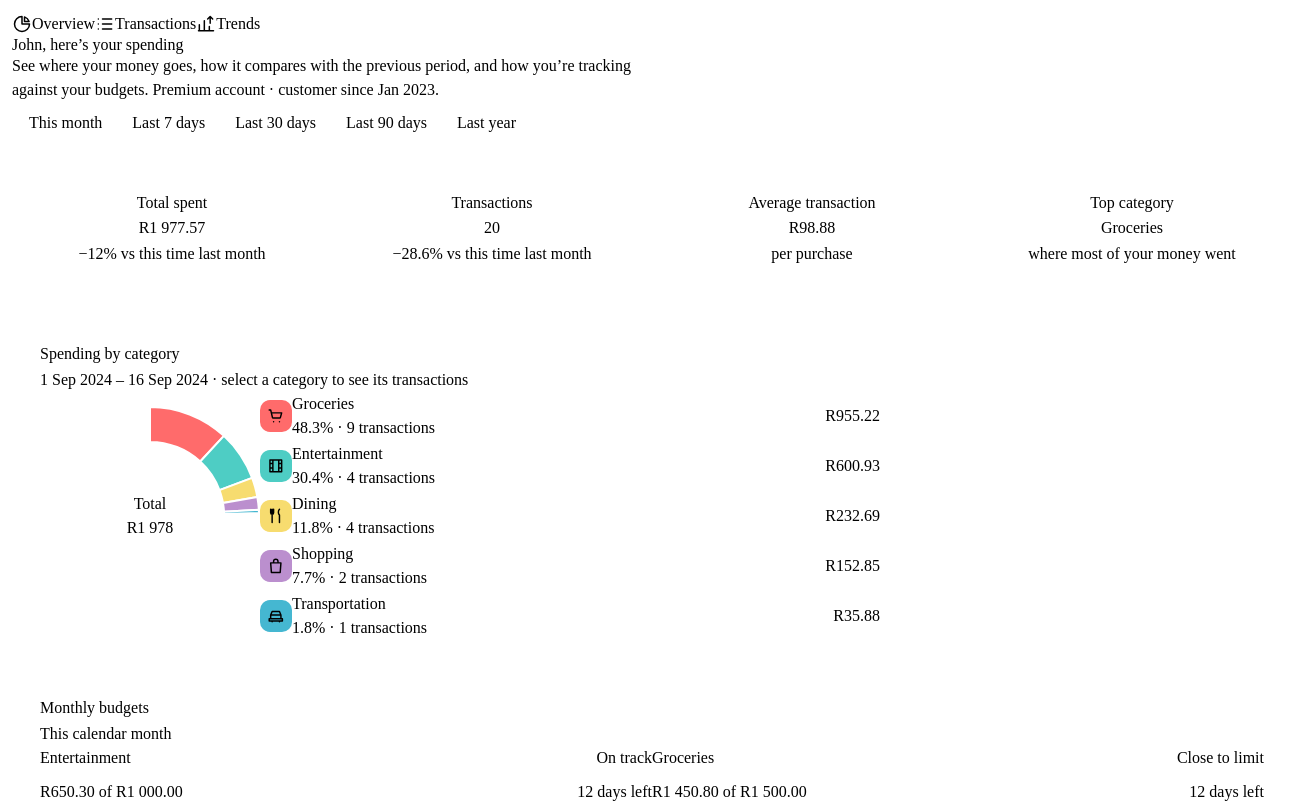
it: SpendingInsightsPage › hides monthly budgets for "Last year"
Expected: the heading "John, here’s your spending" is shown, [12, 36, 184, 53]
Click the button "This month".
click(66, 123)  # box [15, 105, 116, 141]
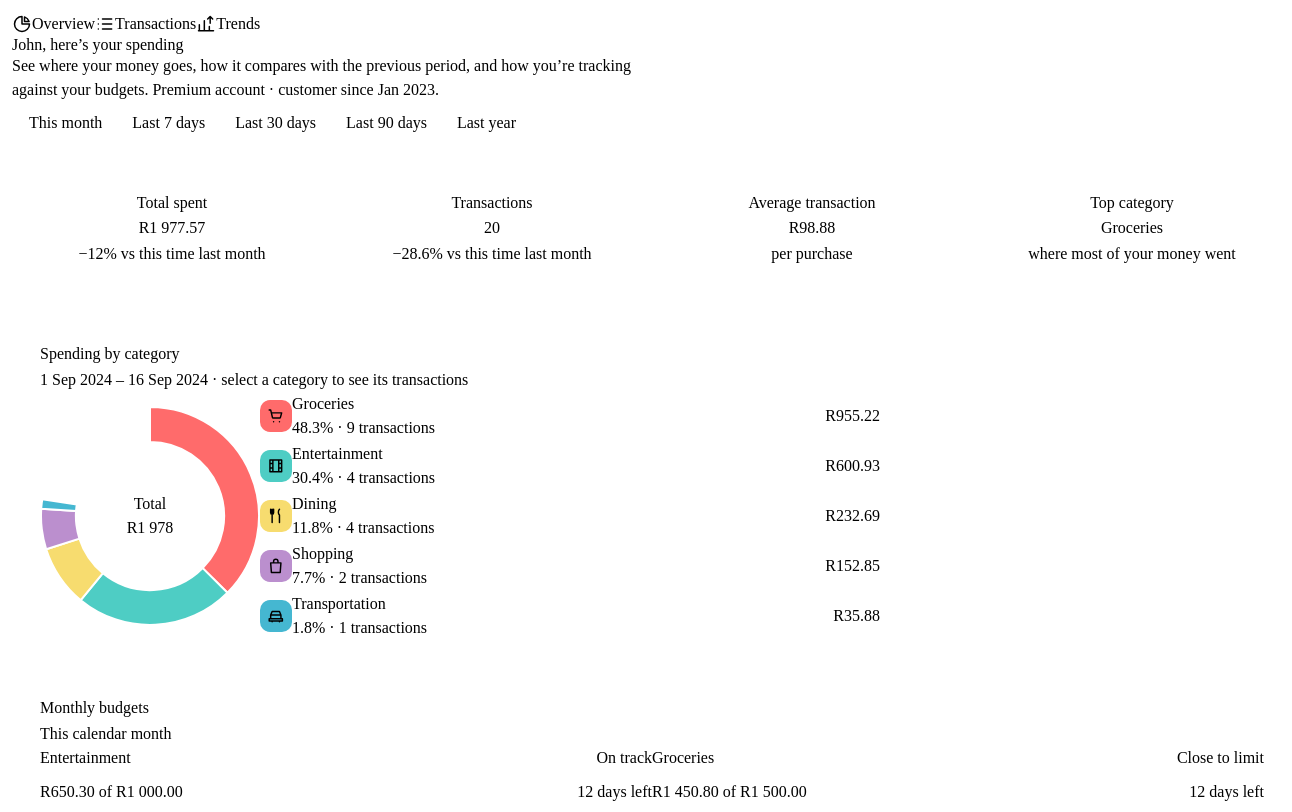
Click the button "Last year".
click(487, 123)  # box [443, 105, 530, 141]
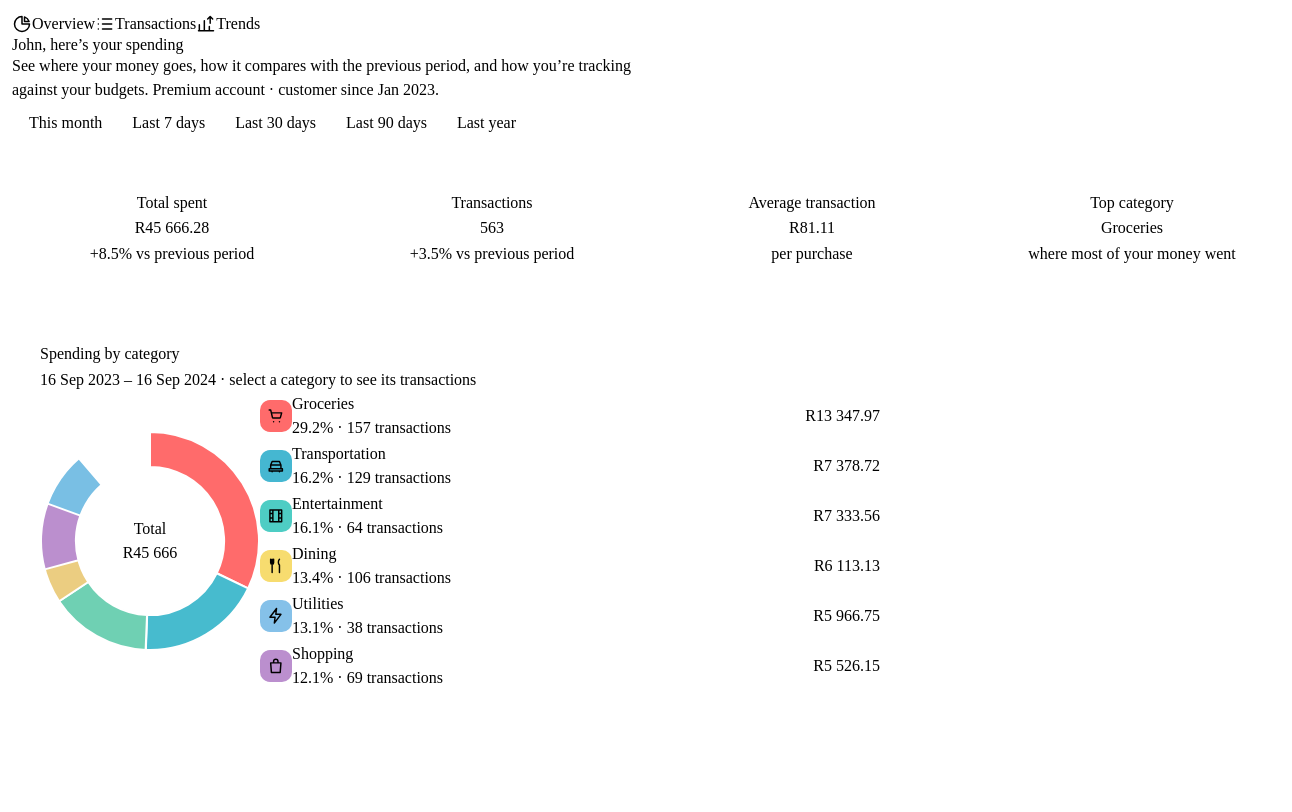
Expected: the heading "Monthly budgets" is gone
